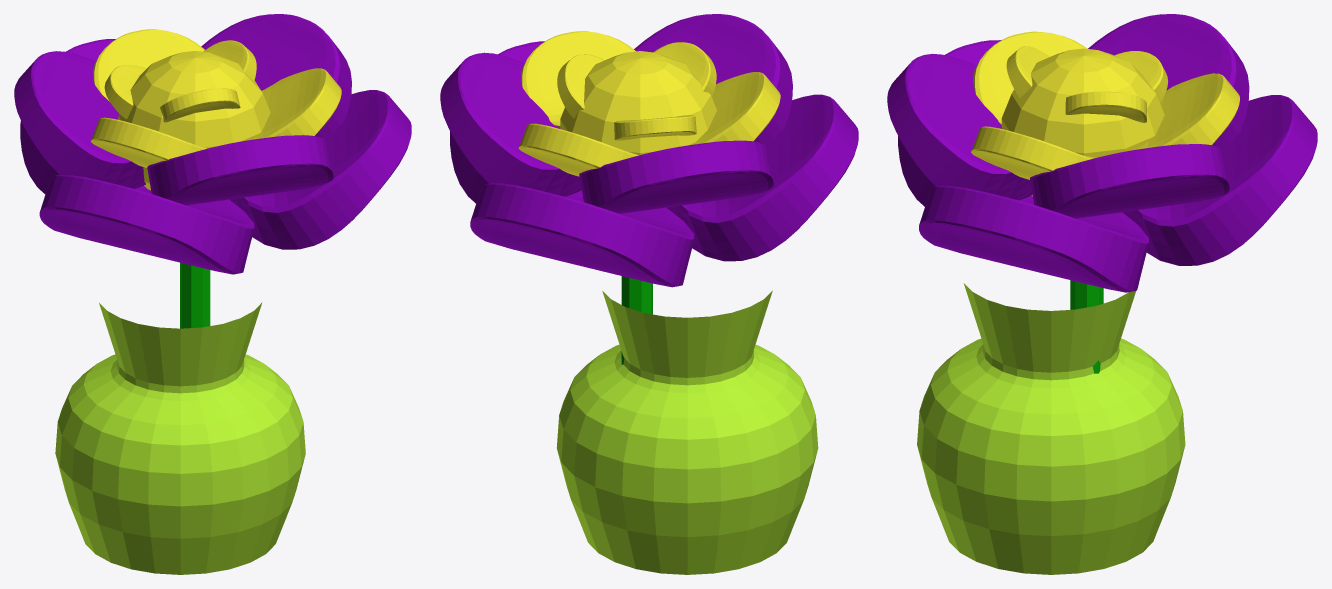
File: bakuchiol4.glb
3 views of the same model, side by side, from view 1: azimuth 30°, elevation 25°; view 2: azimuth 150°, elevation 25°; view 3: azimuth 270°, elevation 25° (orthographic). The views are drawn at different scales.
Size of the model in its own units: 0.3924 by 0.4897 by 0.3859.
